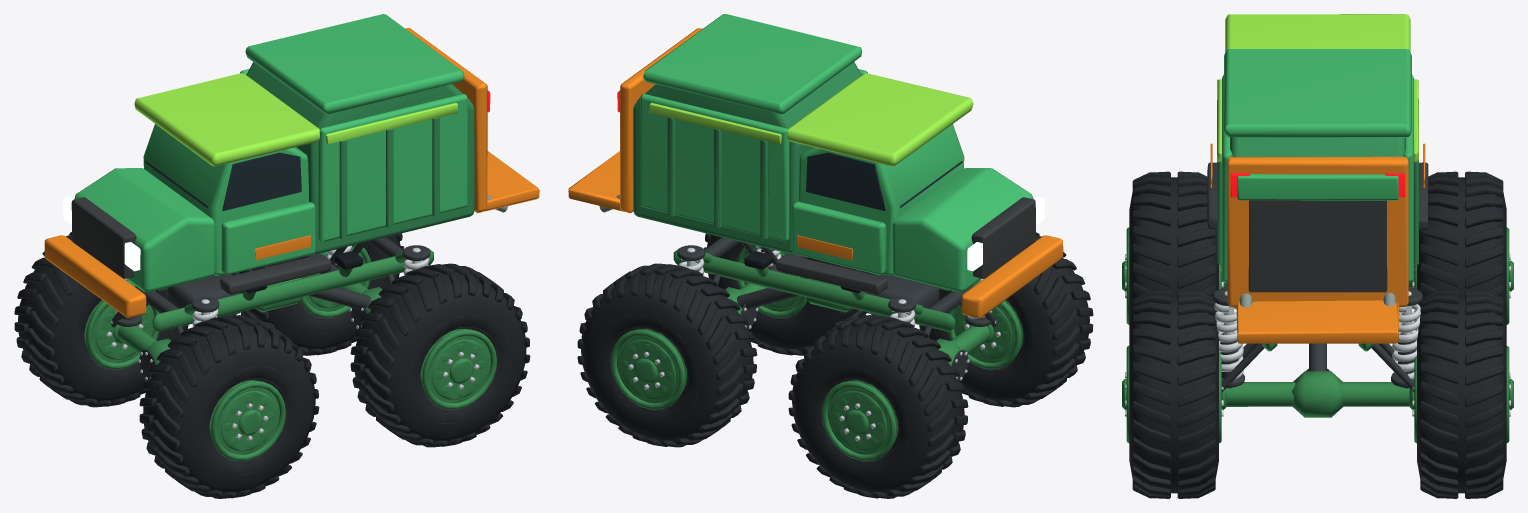
File: TrashTitan.fbx
3 views of the same model, side by side, from view 1: azimuth 30°, elevation 25°; view 2: azimuth 150°, elevation 25°; view 3: azimuth 270°, elevation 25° (orthographic). The views are drawn at different scales.
Visible parts, largest first — view 1: TrashTitan_LOD0_sprung_body_Geometry, TrashTitan_LOD0_RL_Spin_Geometry, TrashTitan_LOD0_FL_Spin_Geometry, TrashTitan_LOD0_FR_Spin_Geometry, TrashTitan_LOD0_RR_Spin_Geometry, TrashTitan_LOD0_LoaderTray_Geometry, TrashTitan_LOD0_FRONT_axle_Geometry, TrashTitan_LOD0_Root_Geometry, TrashTitan_LOD0_REAR_shock_-1_Geometry, TrashTitan_LOD0_REAR_axle_Geometry, TrashTitan_LOD0_FRONT_shock_-1_Geometry; view 2: TrashTitan_LOD0_sprung_body_Geometry, TrashTitan_LOD0_RR_Spin_Geometry, TrashTitan_LOD0_FR_Spin_Geometry, TrashTitan_LOD0_FL_Spin_Geometry, TrashTitan_LOD0_RL_Spin_Geometry, TrashTitan_LOD0_LoaderTray_Geometry, TrashTitan_LOD0_FRONT_axle_Geometry, TrashTitan_LOD0_Root_Geometry, TrashTitan_LOD0_REAR_axle_Geometry, TrashTitan_LOD0_FRONT_shock_1_Geometry, TrashTitan_LOD0_REAR_shock_1_Geometry; view 3: TrashTitan_LOD0_sprung_body_Geometry, TrashTitan_LOD0_RL_Spin_Geometry, TrashTitan_LOD0_RR_Spin_Geometry, TrashTitan_LOD0_FR_Spin_Geometry, TrashTitan_LOD0_FL_Spin_Geometry, TrashTitan_LOD0_LoaderTray_Geometry, TrashTitan_LOD0_REAR_axle_Geometry, TrashTitan_LOD0_HopperDoor_Geometry, TrashTitan_LOD0_REAR_shock_-1_Geometry, TrashTitan_LOD0_REAR_shock_1_Geometry, TrashTitan_LOD0_Root_Geometry.
Boxes of the visible parts, box(x1,y1,x2,y2) form: TrashTitan_LOD0_sprung_body_Geometry: box(44, 14, 508, 331); TrashTitan_LOD0_RL_Spin_Geometry: box(350, 263, 530, 447); TrashTitan_LOD0_FL_Spin_Geometry: box(139, 315, 319, 498); TrashTitan_LOD0_FR_Spin_Geometry: box(14, 232, 188, 407); TrashTitan_LOD0_RR_Spin_Geometry: box(232, 233, 404, 355); TrashTitan_LOD0_LoaderTray_Geometry: box(474, 151, 539, 213); TrashTitan_LOD0_FRONT_axle_Geometry: box(117, 326, 170, 380); TrashTitan_LOD0_Root_Geometry: box(111, 242, 394, 336); TrashTitan_LOD0_REAR_shock_-1_Geometry: box(402, 245, 430, 275); TrashTitan_LOD0_REAR_axle_Geometry: box(340, 283, 382, 329); TrashTitan_LOD0_FRONT_shock_-1_Geometry: box(191, 296, 219, 326); TrashTitan_LOD0_sprung_body_Geometry: box(599, 14, 1063, 331); TrashTitan_LOD0_RR_Spin_Geometry: box(577, 263, 757, 447); TrashTitan_LOD0_FR_Spin_Geometry: box(788, 315, 968, 498); TrashTitan_LOD0_FL_Spin_Geometry: box(916, 232, 1093, 407); TrashTitan_LOD0_RL_Spin_Geometry: box(703, 233, 875, 355); TrashTitan_LOD0_LoaderTray_Geometry: box(568, 151, 633, 213); TrashTitan_LOD0_FRONT_axle_Geometry: box(936, 325, 989, 381); TrashTitan_LOD0_Root_Geometry: box(698, 242, 996, 337); TrashTitan_LOD0_REAR_axle_Geometry: box(725, 283, 767, 329); TrashTitan_LOD0_FRONT_shock_1_Geometry: box(888, 296, 916, 325); TrashTitan_LOD0_REAR_shock_1_Geometry: box(677, 245, 705, 274); TrashTitan_LOD0_sprung_body_Geometry: box(1207, 14, 1428, 351); TrashTitan_LOD0_RL_Spin_Geometry: box(1122, 290, 1226, 498); TrashTitan_LOD0_RR_Spin_Geometry: box(1409, 290, 1513, 498); TrashTitan_LOD0_FR_Spin_Geometry: box(1409, 171, 1513, 326); TrashTitan_LOD0_FL_Spin_Geometry: box(1122, 171, 1226, 326); TrashTitan_LOD0_LoaderTray_Geometry: box(1236, 300, 1399, 343); TrashTitan_LOD0_REAR_axle_Geometry: box(1226, 368, 1409, 417); TrashTitan_LOD0_HopperDoor_Geometry: box(1237, 174, 1398, 200); TrashTitan_LOD0_REAR_shock_-1_Geometry: box(1213, 288, 1244, 387); TrashTitan_LOD0_REAR_shock_1_Geometry: box(1391, 288, 1422, 387); TrashTitan_LOD0_Root_Geometry: box(1221, 265, 1414, 392).
Size of the model in its own units: 589 by 455 by 414.
